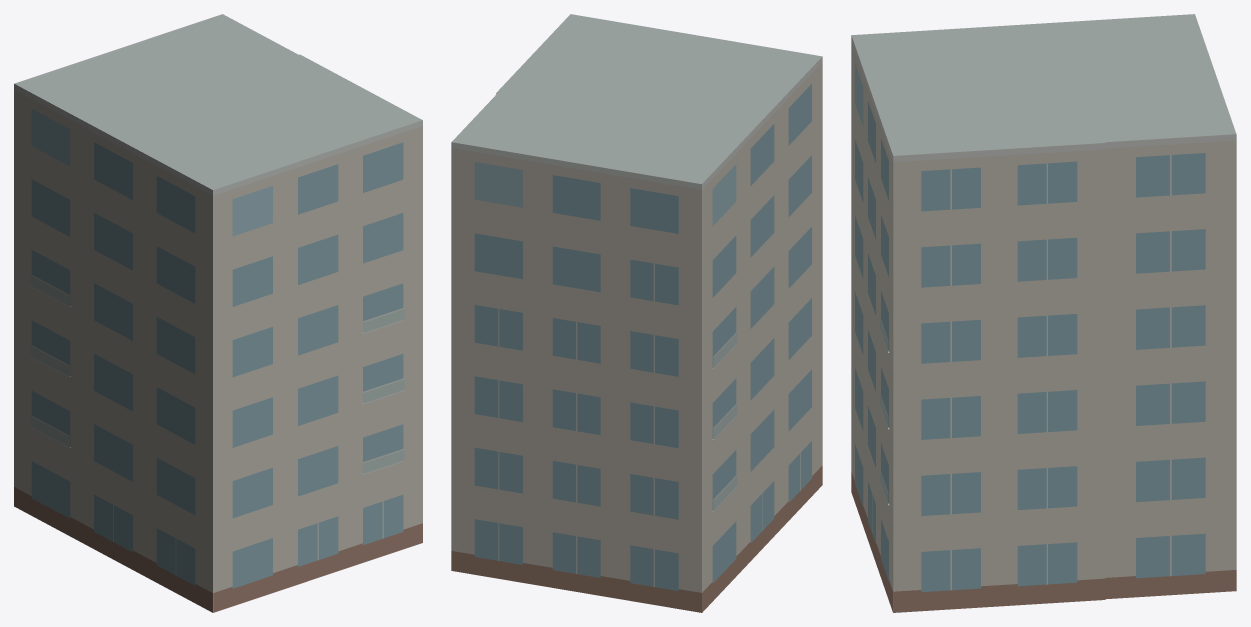
Rendered from survey-upis-32719576.glb.
3 renders of one model, left to right at view 1: azimuth 30°, elevation 25°; view 2: azimuth 150°, elevation 25°; view 3: azimuth 270°, elevation 25°, orthographic. The views are drawn at different scales.
Parts seen in each view (by area): view 1: survey-upis-32719576.tmp; view 2: survey-upis-32719576.tmp; view 3: survey-upis-32719576.tmp.
Boxes of the visible parts, bbox=[...] form: survey-upis-32719576.tmp: bbox=[14, 14, 422, 612]; survey-upis-32719576.tmp: bbox=[451, 14, 822, 612]; survey-upis-32719576.tmp: bbox=[851, 14, 1236, 612].
Bounding box in the file's own units: 11.94 × 17.9 × 13.68.
